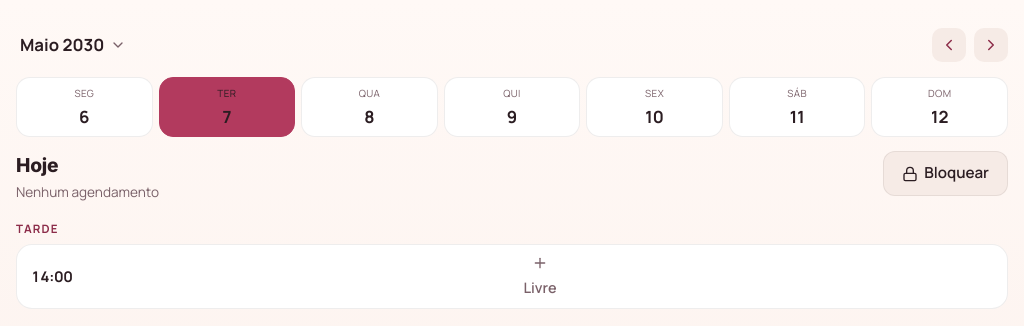
Scenario: Faixa da semana › tocar num dia da semana troca o dia exibido
Click the button with aria-label "qui, 9" at (512, 107), box [444, 77, 580, 137]
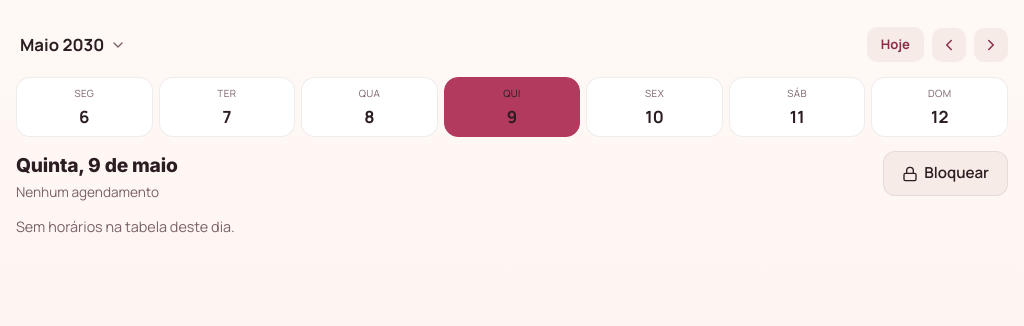
Result: the heading "Quinta, 9 de maio" is shown at [16, 151, 178, 180]
